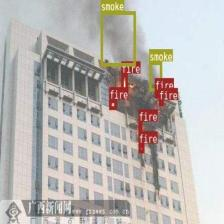fire: (121, 73, 127, 90), (109, 99, 116, 109), (139, 143, 144, 152), (139, 120, 142, 134), (155, 89, 159, 98), (158, 100, 163, 105)
smoke: (101, 10, 135, 66), (148, 61, 162, 91)
